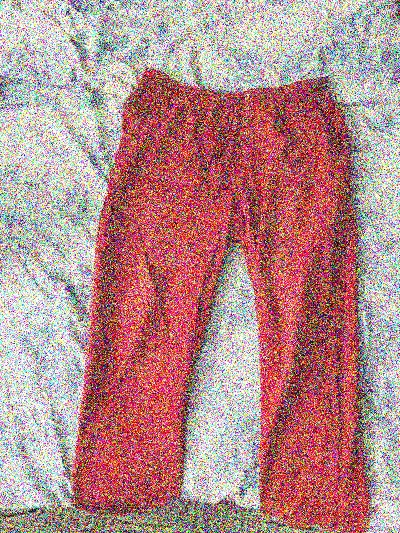Pants: (50, 75, 379, 531)
